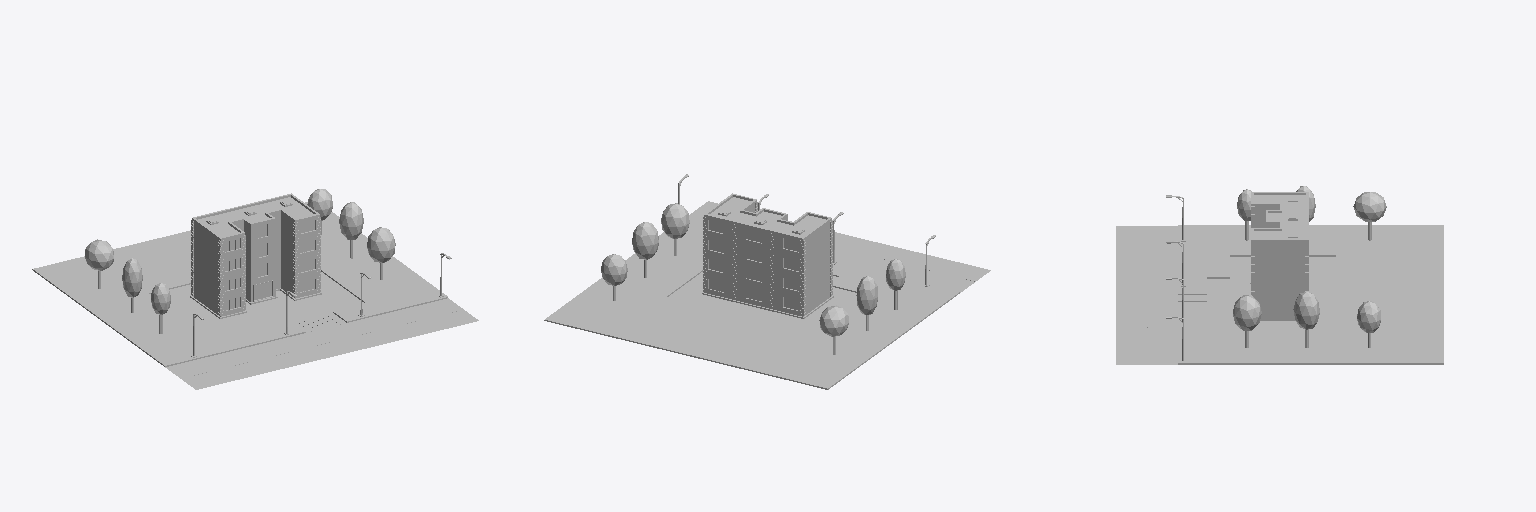
File: house1.obj
3 renders of one model, left to right at view 1: azimuth 30°, elevation 25°; view 2: azimuth 150°, elevation 25°; view 3: azimuth 270°, elevation 25°, orthographic.
Visible parts, largest first — view 1: Ground_Plane.002, Building_Cube.051, Tree.003_Cylinder.001, Tree.004_Cylinder.002, Tree.002_Cylinder.006, Tree.001_Cylinder.005, Tree_Cylinder.004, Tree.005_Cylinder.003; view 2: Ground_Plane.002, Building_Cube.051, Tree.004_Cylinder.002, Tree.003_Cylinder.001, Tree.002_Cylinder.006, Tree.001_Cylinder.005, Tree.005_Cylinder.003, Tree_Cylinder.004; view 3: Ground_Plane.002, Building_Cube.051, Tree.003_Cylinder.001, Tree.004_Cylinder.002, Tree.002_Cylinder.006, Tree.005_Cylinder.003.
Boxes of the visible parts, x1=… form: Ground_Plane.002: x1=32, y1=202, x2=478, y2=389; Building_Cube.051: x1=190, y1=193, x2=321, y2=318; Tree.003_Cylinder.001: x1=367, y1=227, x2=395, y2=279; Tree.004_Cylinder.002: x1=339, y1=202, x2=363, y2=258; Tree.002_Cylinder.006: x1=85, y1=239, x2=113, y2=288; Tree.001_Cylinder.005: x1=122, y1=258, x2=142, y2=312; Tree_Cylinder.004: x1=151, y1=283, x2=170, y2=333; Tree.005_Cylinder.003: x1=307, y1=189, x2=332, y2=234; Ground_Plane.002: x1=544, y1=201, x2=990, y2=389; Building_Cube.051: x1=702, y1=193, x2=833, y2=318; Tree.004_Cylinder.002: x1=632, y1=222, x2=658, y2=277; Tree.003_Cylinder.001: x1=661, y1=203, x2=689, y2=255; Tree.002_Cylinder.006: x1=819, y1=305, x2=848, y2=354; Tree.001_Cylinder.005: x1=856, y1=276, x2=877, y2=330; Tree.005_Cylinder.003: x1=601, y1=254, x2=627, y2=300; Tree_Cylinder.004: x1=886, y1=259, x2=905, y2=309; Ground_Plane.002: x1=1116, y1=225, x2=1443, y2=364; Building_Cube.051: x1=1250, y1=192, x2=1309, y2=320; Tree.003_Cylinder.001: x1=1233, y1=295, x2=1261, y2=347; Tree.004_Cylinder.002: x1=1293, y1=292, x2=1319, y2=347; Tree.002_Cylinder.006: x1=1353, y1=192, x2=1386, y2=240; Tree.005_Cylinder.003: x1=1357, y1=301, x2=1380, y2=347.
Size of the model in its own units: 11.38 by 3.06 by 11.38.